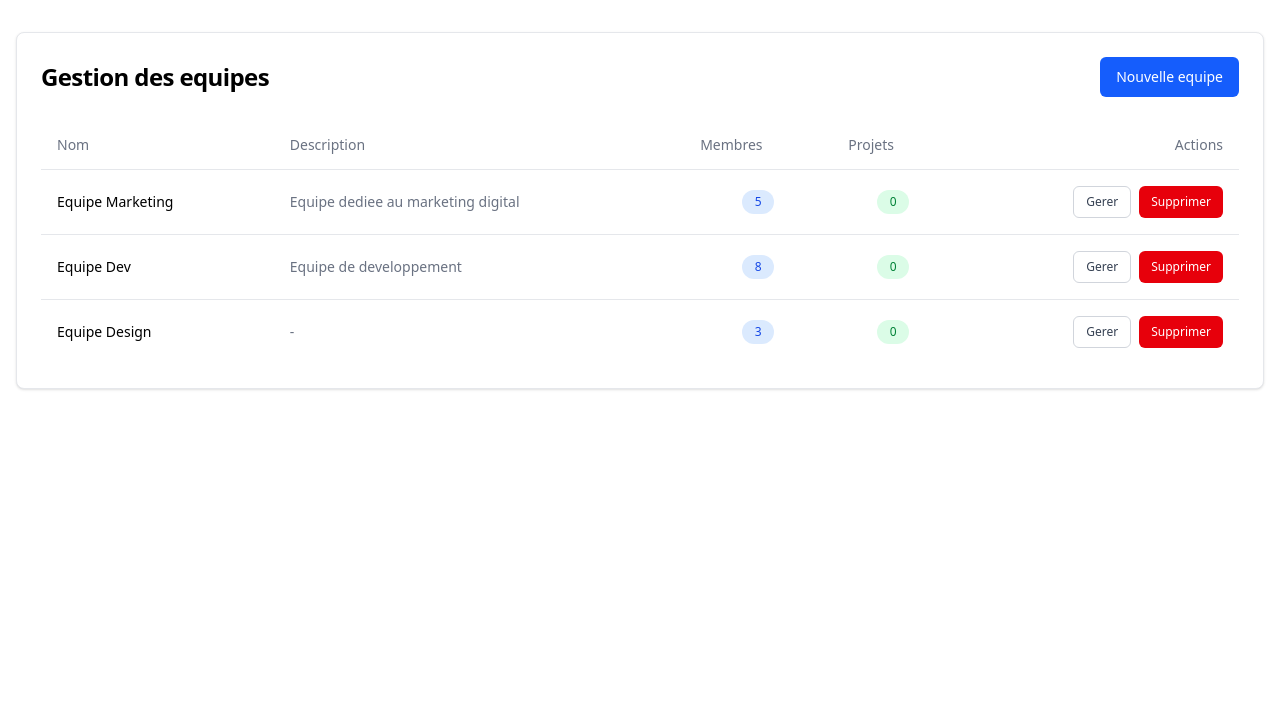
TeamsPage › AC2: Create Team Modal › validates required name field
Click the button "Nouvelle equipe".
click(1170, 77)  # box [1100,57,1239,97]
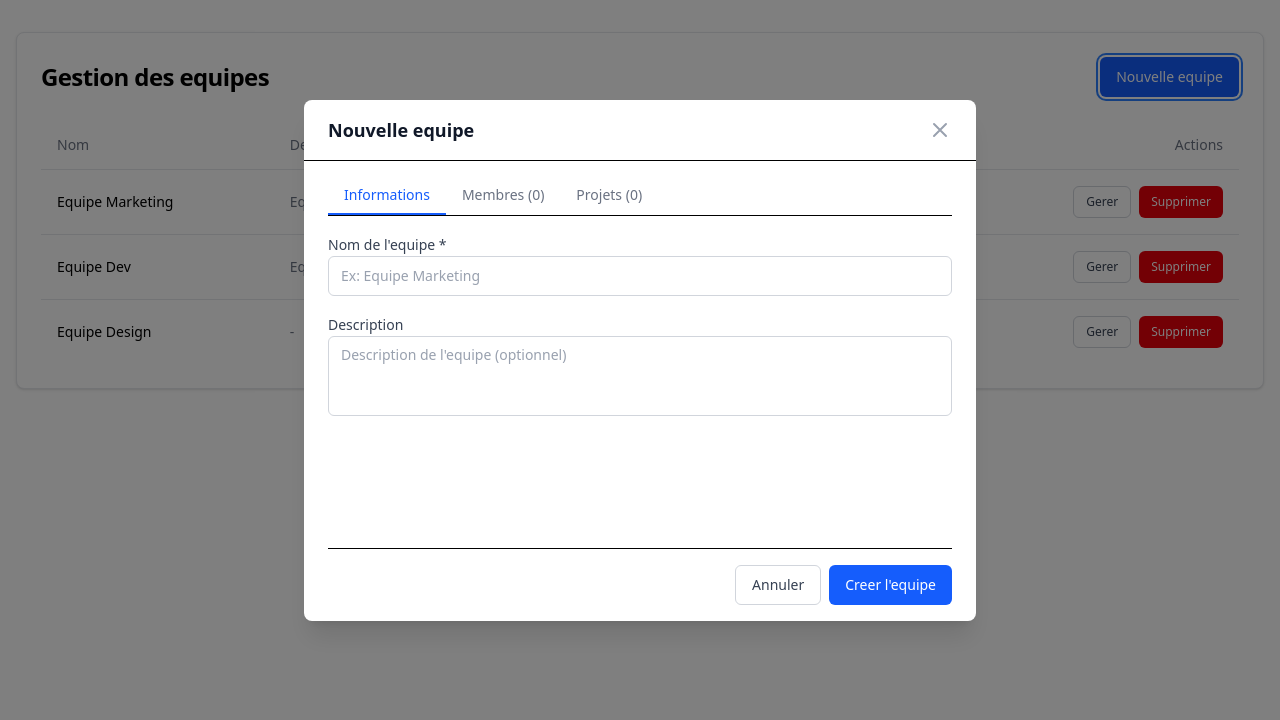
Expected: the button "Creer l'equipe" is shown
// Try to submit without filling name
Click the button "Creer l'equipe".
click(891, 584)  # box [829,564,952,604]
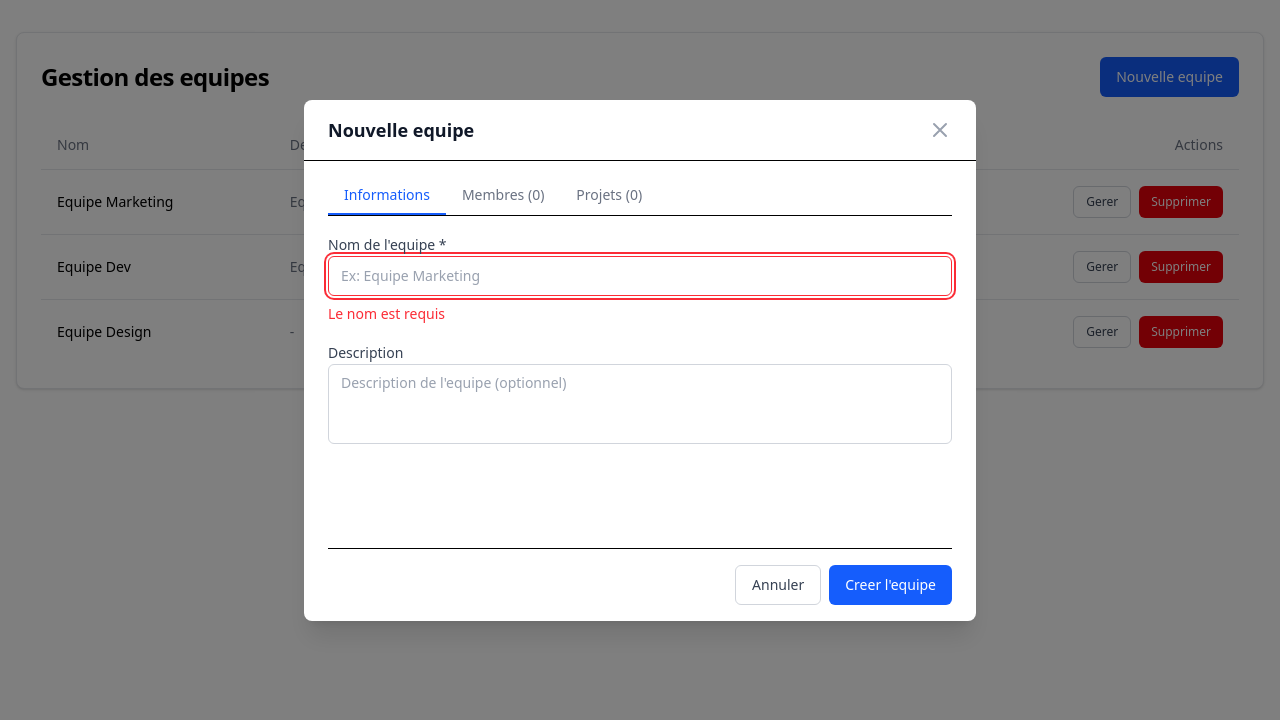
Expected: the text "Le nom est requis" is shown, [328,304,445,322]
